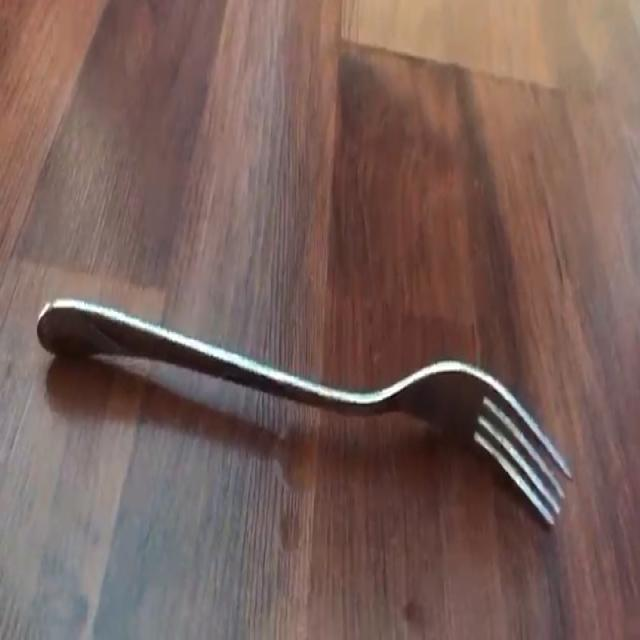spoon: (38, 299, 571, 525)
